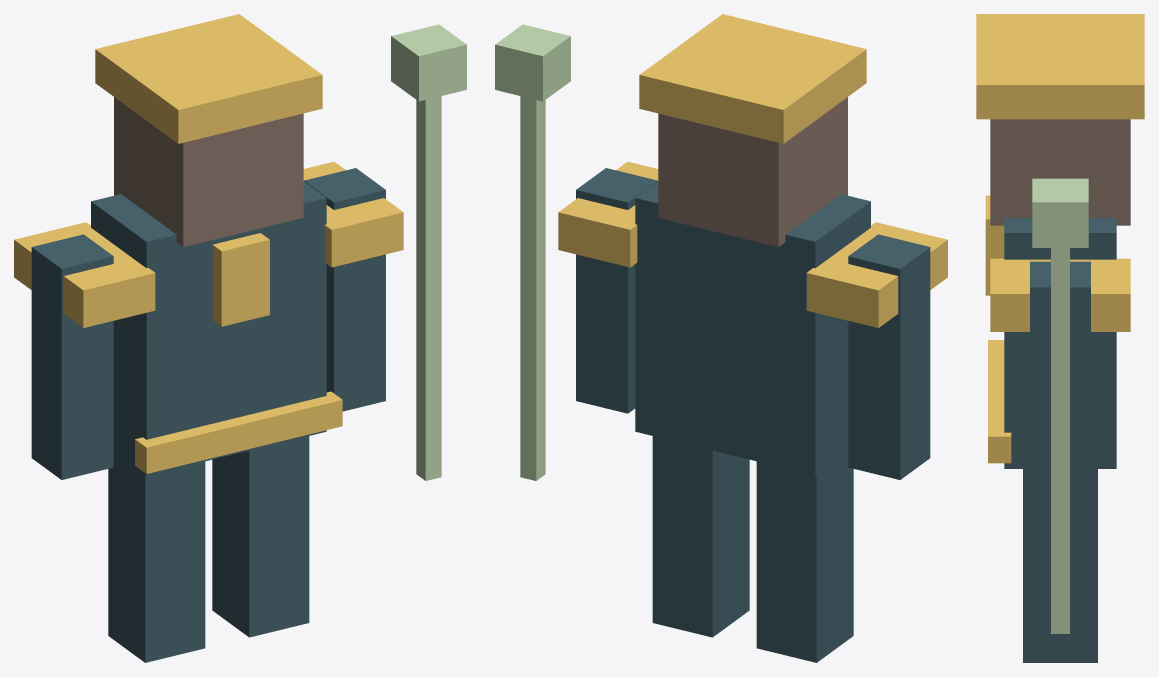
File: 12_maelis_ashvein_mechanist_under_silent.glb
3 renders of one model, left to right at view 1: azimuth 30°, elevation 25°; view 2: azimuth 150°, elevation 25°; view 3: azimuth 270°, elevation 25°, orthographic.
Visible parts, largest first — view 1: Maelis Ashvein, Mechanist under Silent; view 2: Maelis Ashvein, Mechanist under Silent; view 3: Maelis Ashvein, Mechanist under Silent.
Part boxes in pixels (bbox=[...]): Maelis Ashvein, Mechanist under Silent: bbox=[14, 14, 466, 662]; Maelis Ashvein, Mechanist under Silent: bbox=[495, 14, 947, 662]; Maelis Ashvein, Mechanist under Silent: bbox=[976, 14, 1144, 662].
Bounding box in the file's own units: 1.1 × 1.47 × 0.3908.
